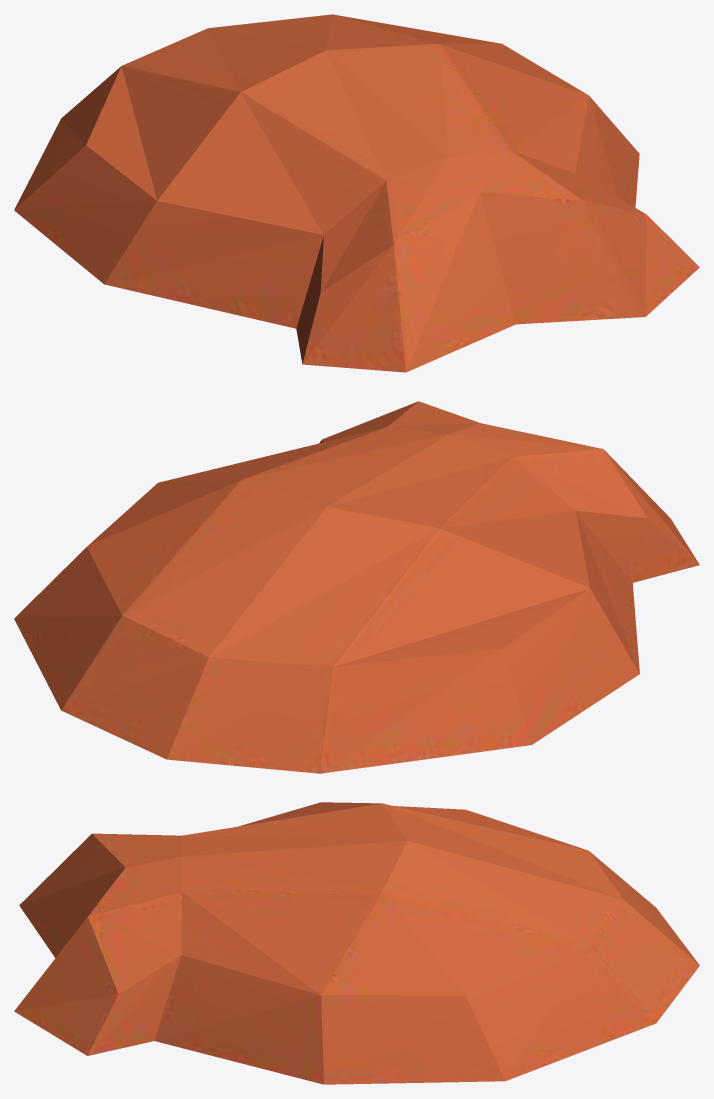
The model's file is shell.glb.
3 views of the same model, one above another, from view 1: azimuth 30°, elevation 25°; view 2: azimuth 150°, elevation 25°; view 3: azimuth 270°, elevation 25° (orthographic). The views are drawn at different scales.
Parts seen in each view (by area): view 1: shell; view 2: shell; view 3: shell.
Part boxes in pixels (x1,y1,x2,y2): shell: (14, 14, 699, 372); shell: (14, 401, 699, 773); shell: (14, 802, 699, 1084).
Bounding box in the file's own units: 0.2521 × 0.062 × 0.3053.
Materials: 1 (1 with a texture image).
